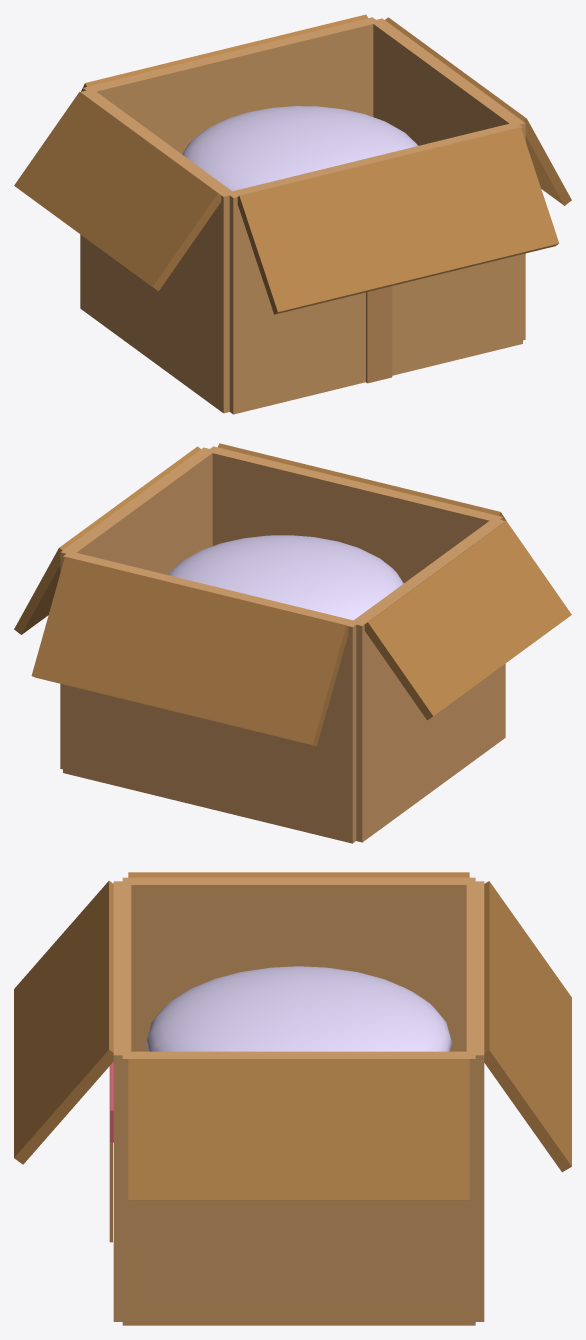
The model's file is laundry-box.glb.
The picture shows the model from 3 angles, top to bottom: view 1: azimuth 30°, elevation 25°; view 2: azimuth 150°, elevation 25°; view 3: azimuth 270°, elevation 25°; orthographic projection. The views are drawn at different scales.
Size of the model in its own units: 1.01 by 0.5066 by 0.9483.
